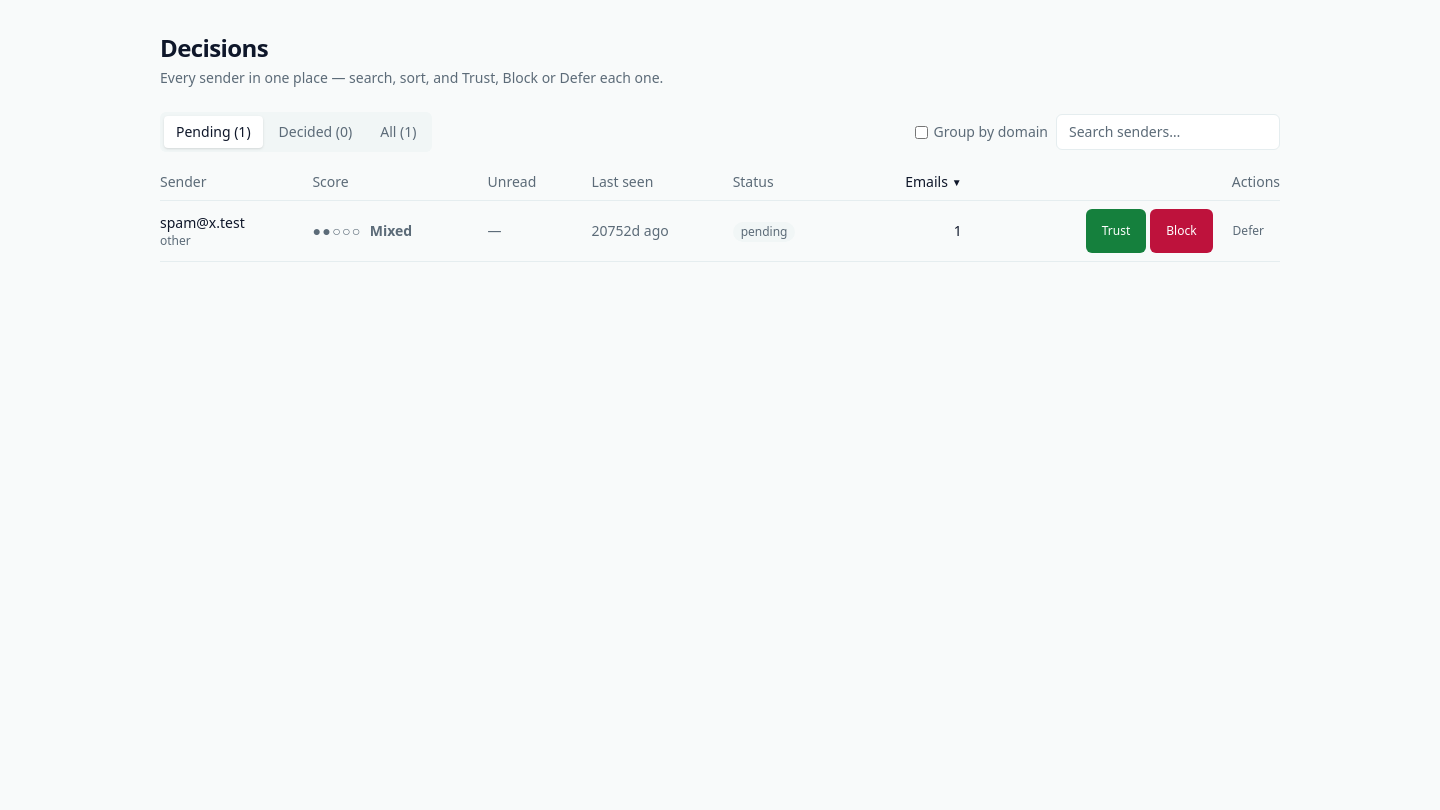
Test case: Dashboard — decisions surface › opens the detail panel (impact preview + confirm) for a Block, rather than acting inline
The image size is (1440, 810).
Expected: the text "spam@x.test" is shown, [160,213,245,232]
Click the button "Block".
click(1181, 231)  # box [1150,209,1213,253]
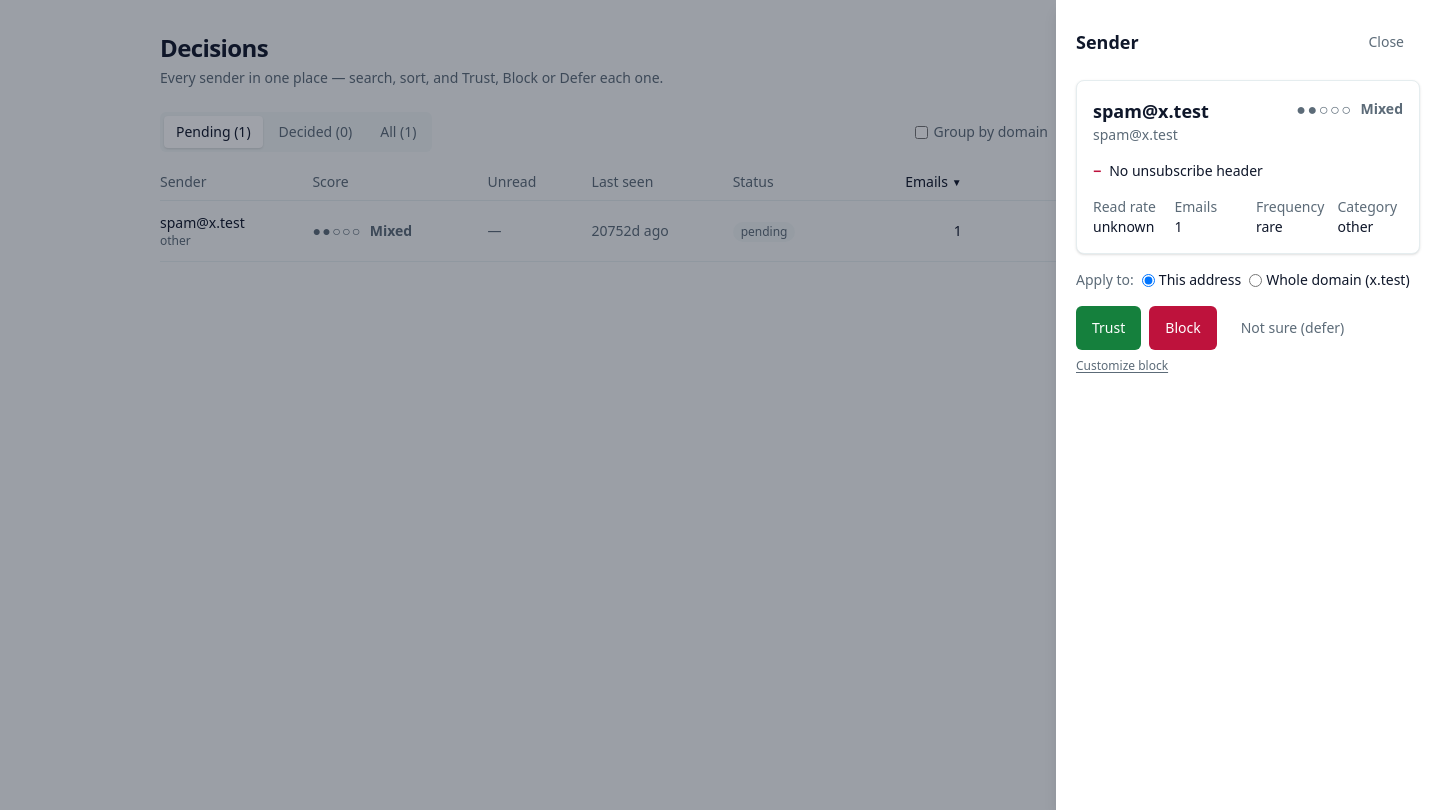
Expected: the text "pending" is shown, [733,222,795,242]
Now the dialog named "actions for spam@x.test" is shown, box [1056,0,1439,809]
